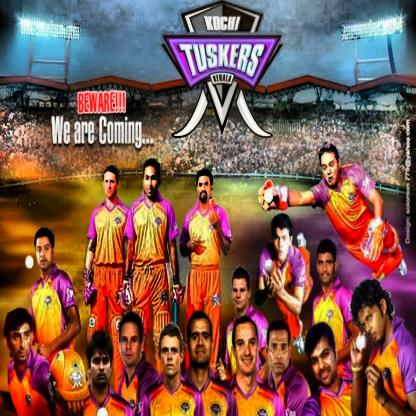Kochi Tuskers: (162, 0, 284, 138)
